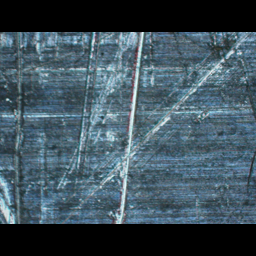d: (109, 32, 158, 223), (179, 31, 256, 124), (71, 32, 102, 174), (11, 32, 34, 223)
